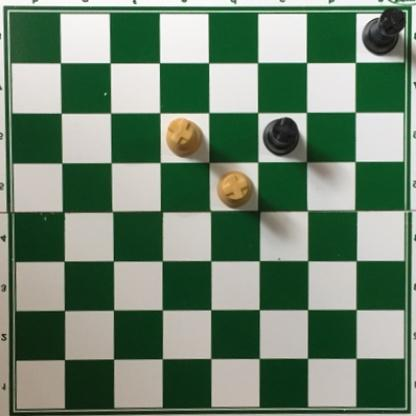black-rook: (360, 7, 409, 57), (261, 116, 301, 156)
white-rook: (167, 117, 205, 159), (219, 170, 256, 210)
